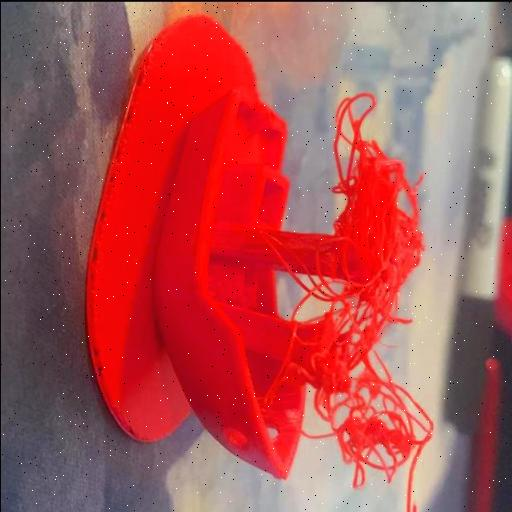spaghetti: (295, 259, 392, 389), (329, 365, 425, 482), (330, 93, 380, 186)
